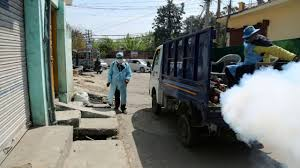mask: (242, 31, 255, 47), (114, 53, 124, 63)
